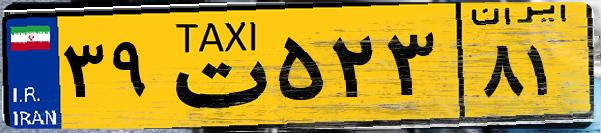1: (525, 38, 570, 115)
2: (330, 28, 385, 110)
3: (385, 28, 445, 110), (57, 26, 110, 100)
5: (270, 28, 330, 110)
8: (475, 38, 525, 113)
9: (110, 28, 158, 98)
ت: (158, 12, 270, 120)
